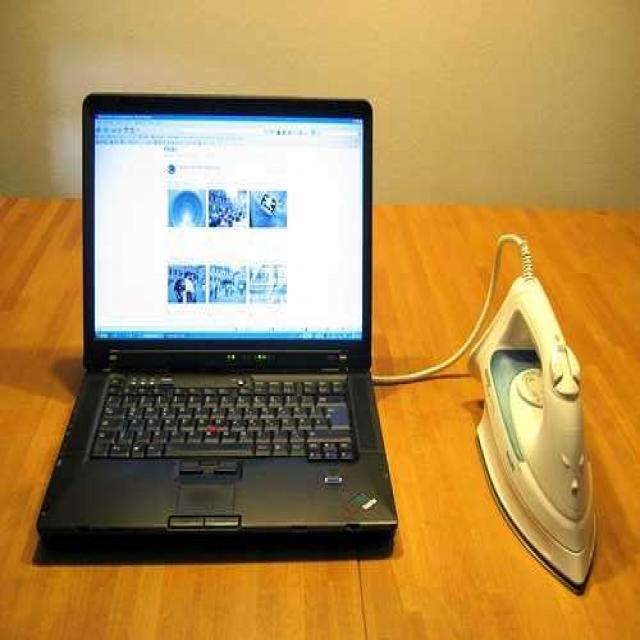laptop: (65, 86, 388, 532)
